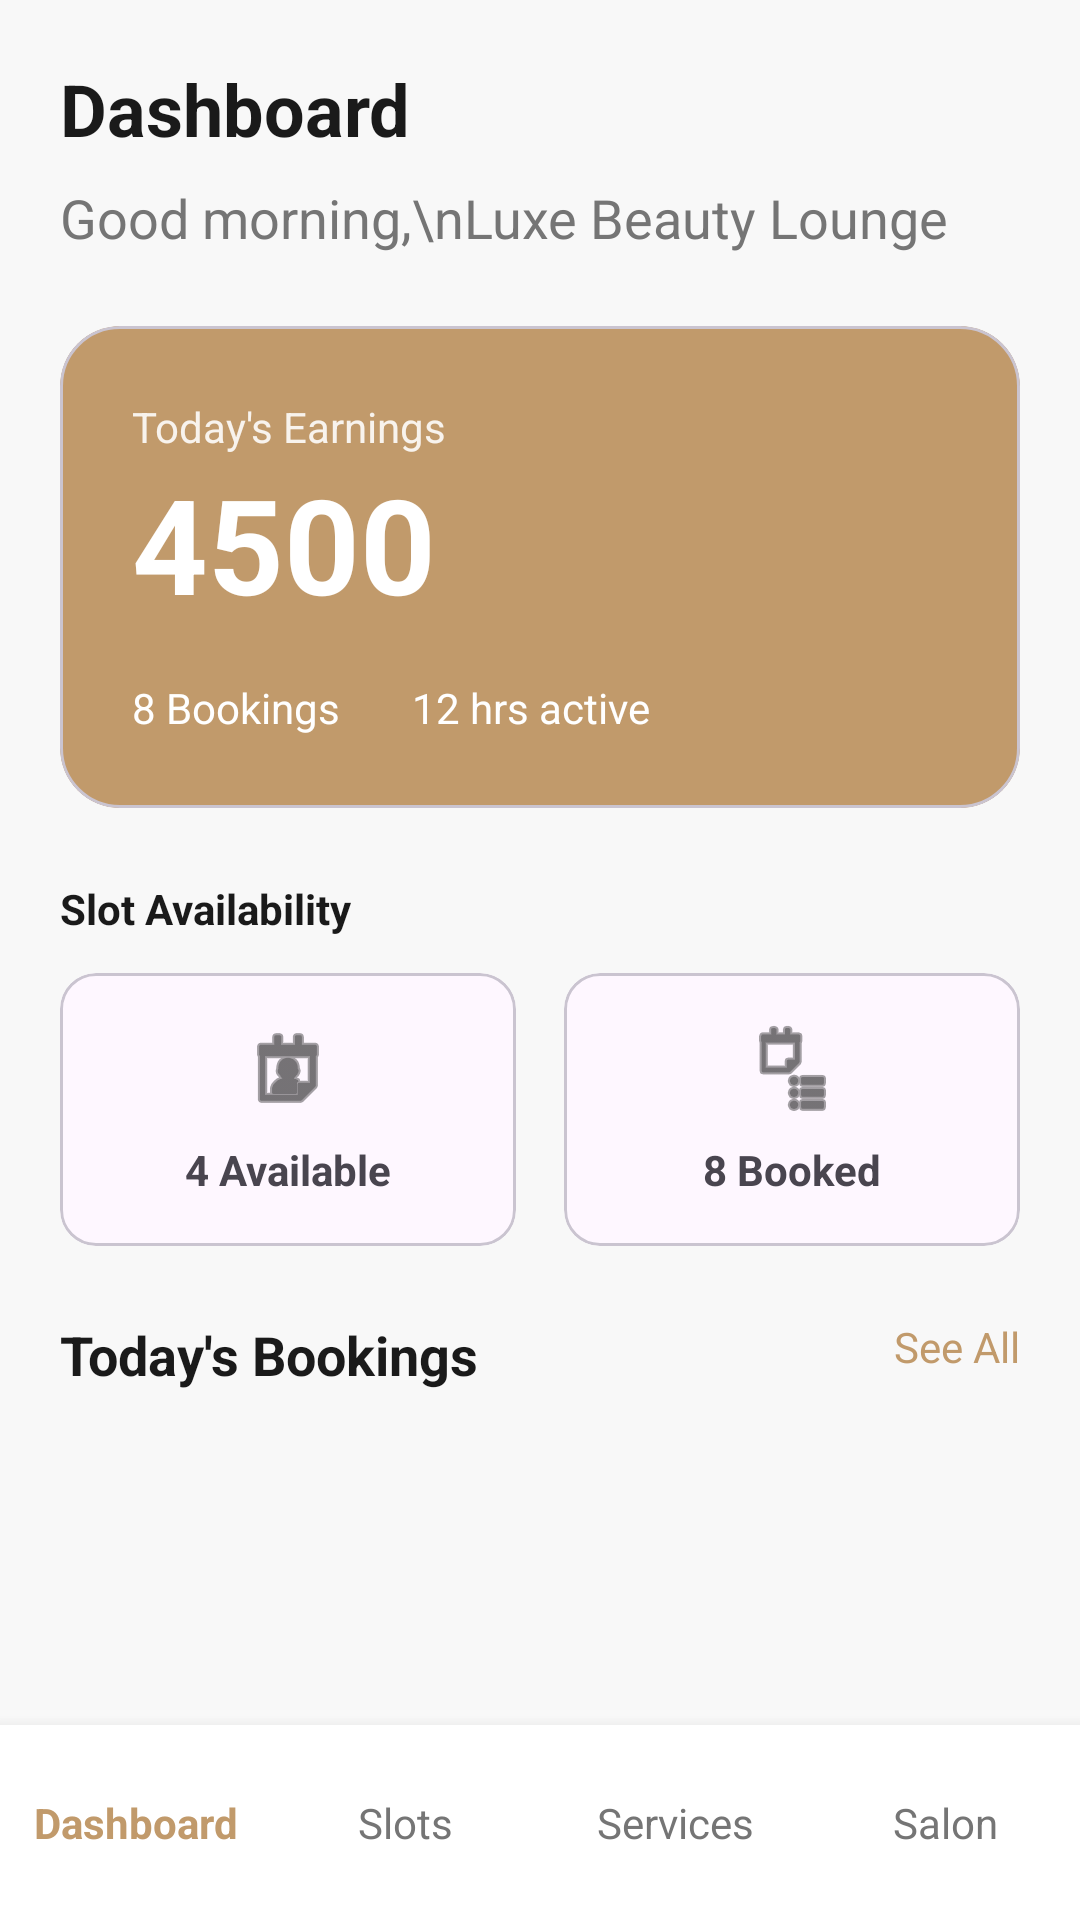

Where to tap for icons on this 1080×1920 app screen, as (x,y):
agenda: (792,1068)
calendar: (288,1068)
